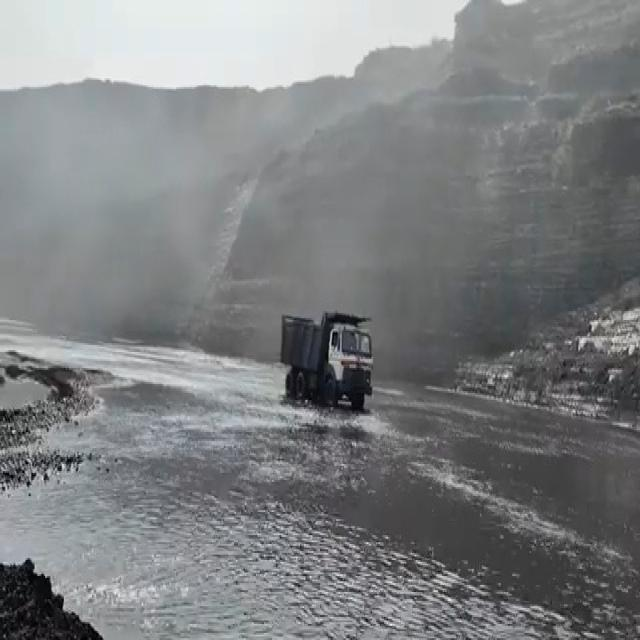dump_truck: (279, 313, 376, 415)
